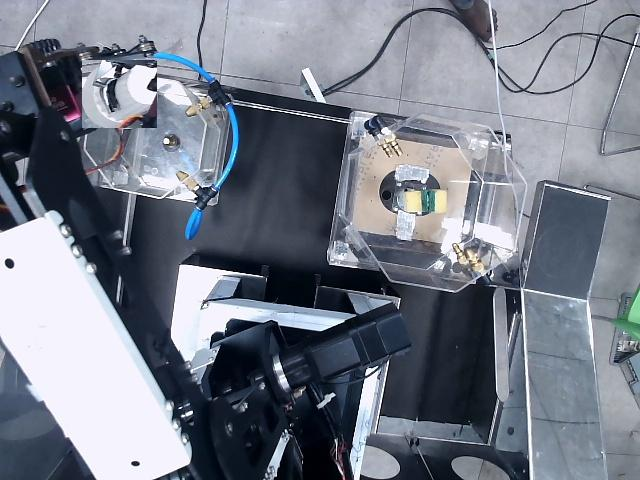cup: (82, 60, 157, 128)
